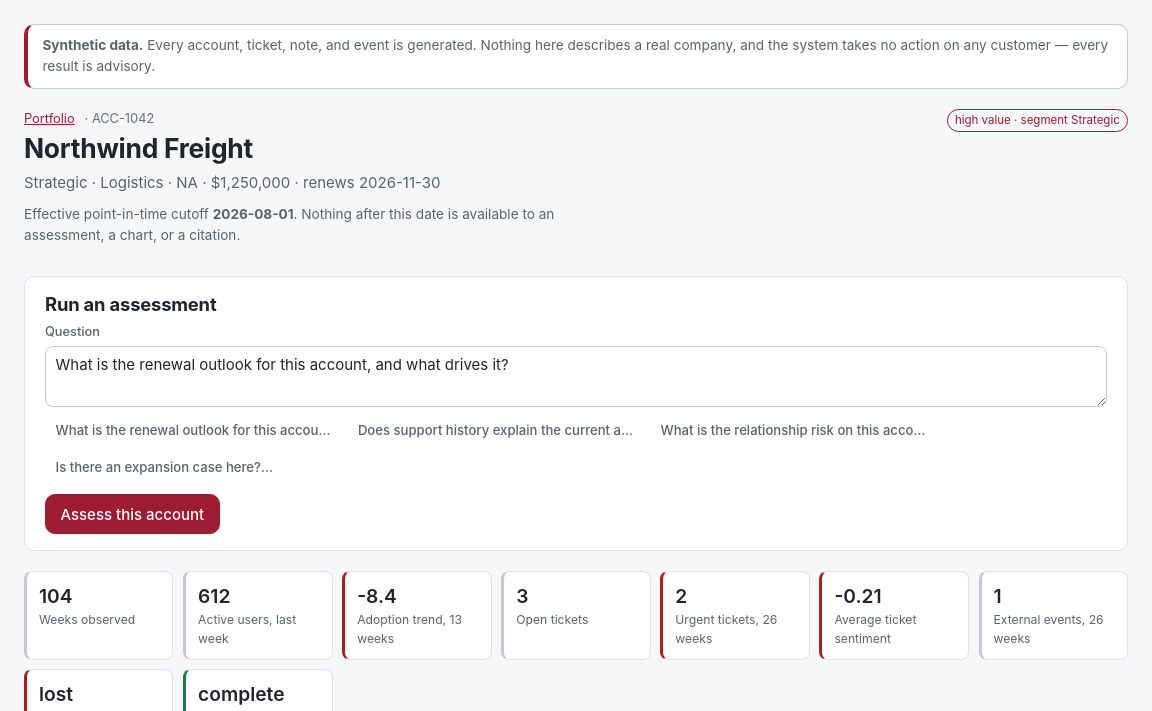
page branches that only appear when something goes wrong › surfaces a blocked request rather than starting a run
What coordinates should you click on to do the following:
click the button "Assess this account"
I would click on:
 (132, 514)
Its box is [45, 494, 220, 534].
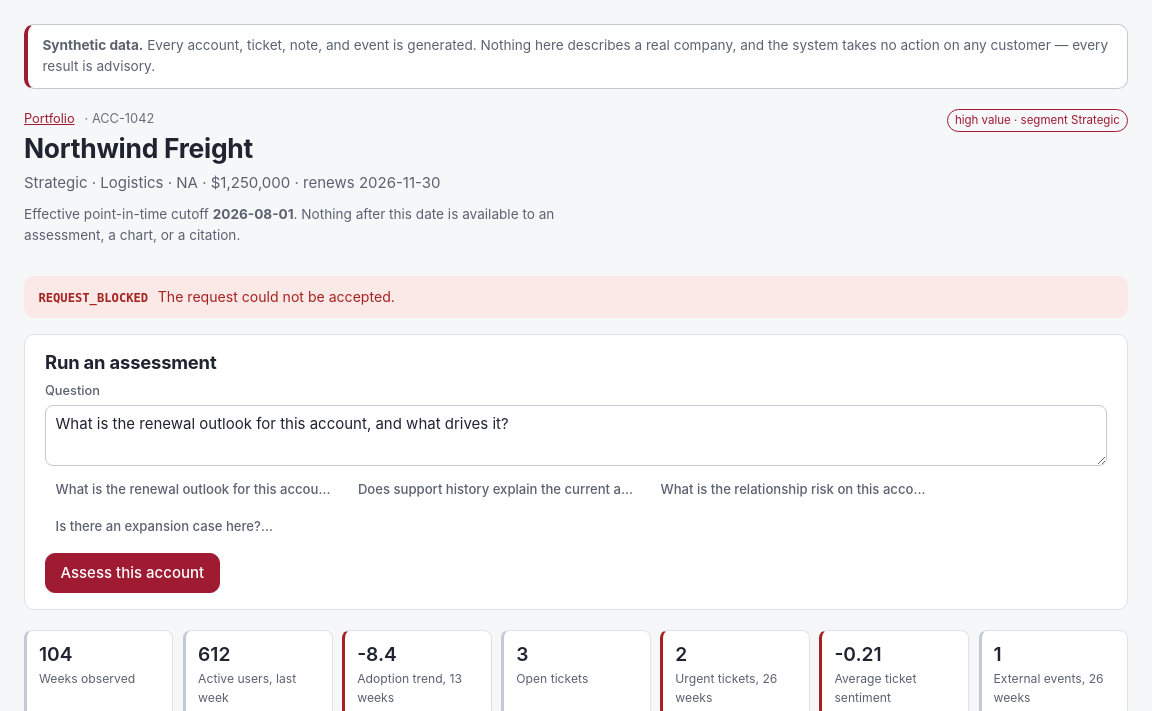
Check: the message shows "REQUEST_BLOCKED", box [38, 291, 148, 305]
